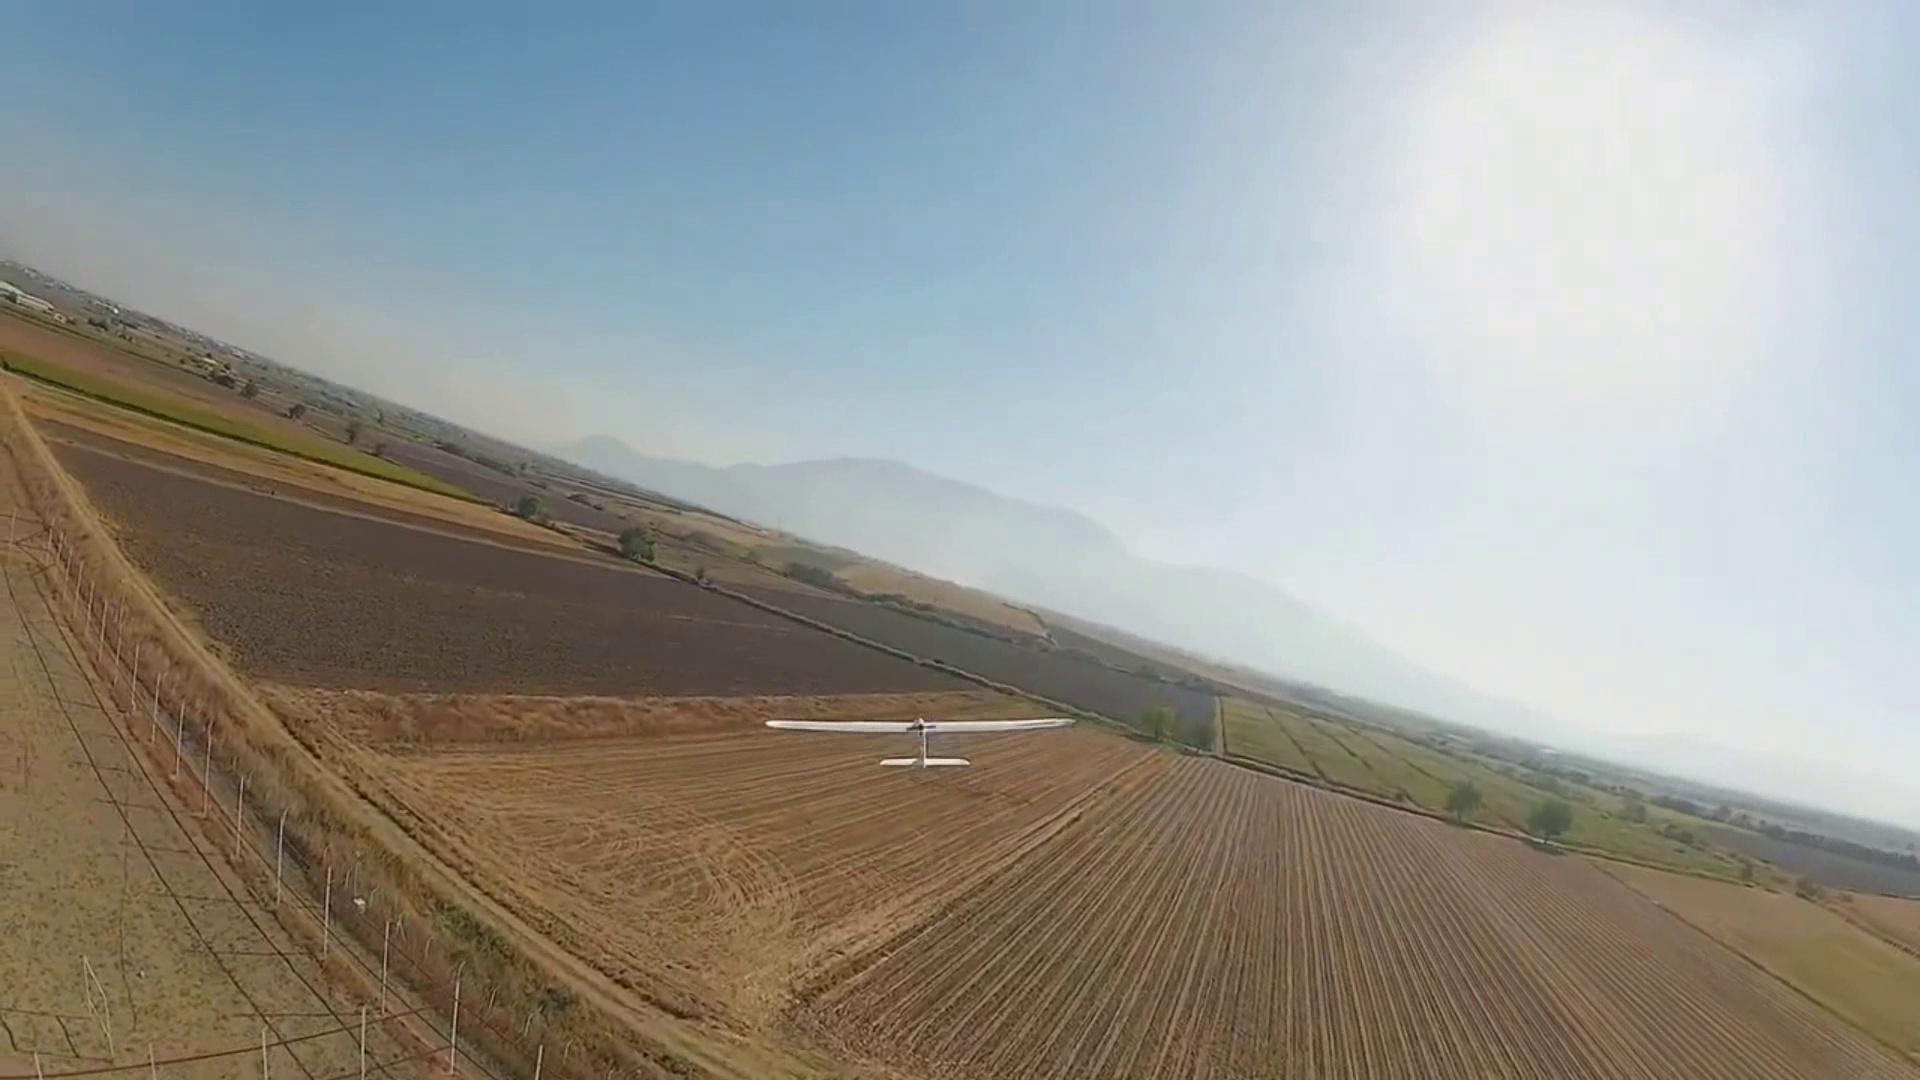airplane: (1, 264, 1917, 900)
